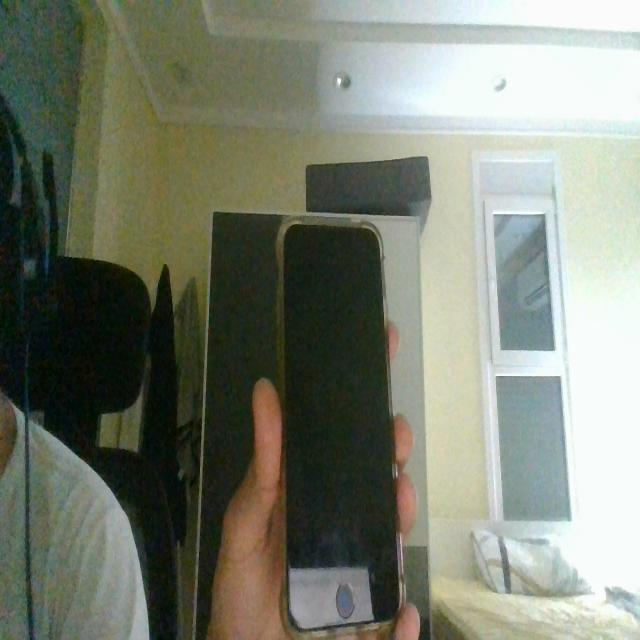Phone: (272, 211, 408, 633)
